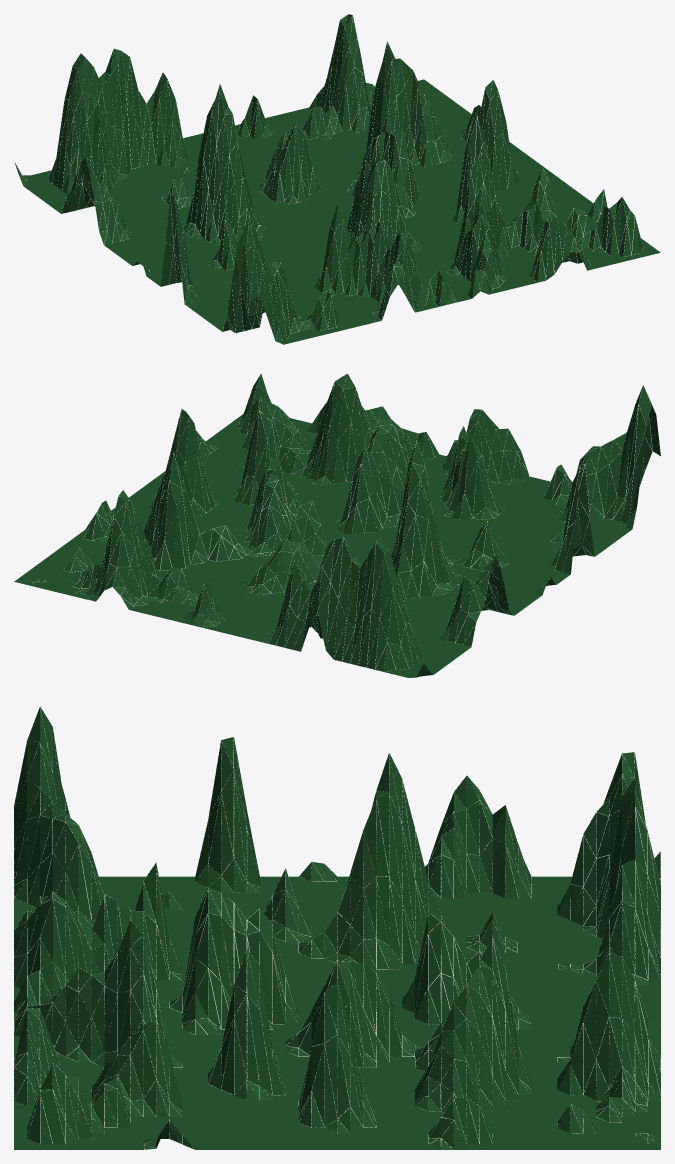
Rendered from map3.gltf.
3 renders of one model, top to bottom at view 1: azimuth 30°, elevation 25°; view 2: azimuth 150°, elevation 25°; view 3: azimuth 270°, elevation 25°, orthographic. The views are drawn at different scales.
Parts seen in each view (by area): view 1: mapa04, mapa04.001; view 2: mapa04, mapa04.001; view 3: mapa04, mapa04.001.
Boxes of the visible parts, <box> form: mapa04: <box>14,14,660,344</box>; mapa04.001: <box>21,14,638,343</box>; mapa04: <box>14,373,660,677</box>; mapa04.001: <box>32,378,652,677</box>; mapa04: <box>14,706,660,1149</box>; mapa04.001: <box>14,707,660,1149</box>.
Size of the model in its own units: 300 by 100 by 300.
